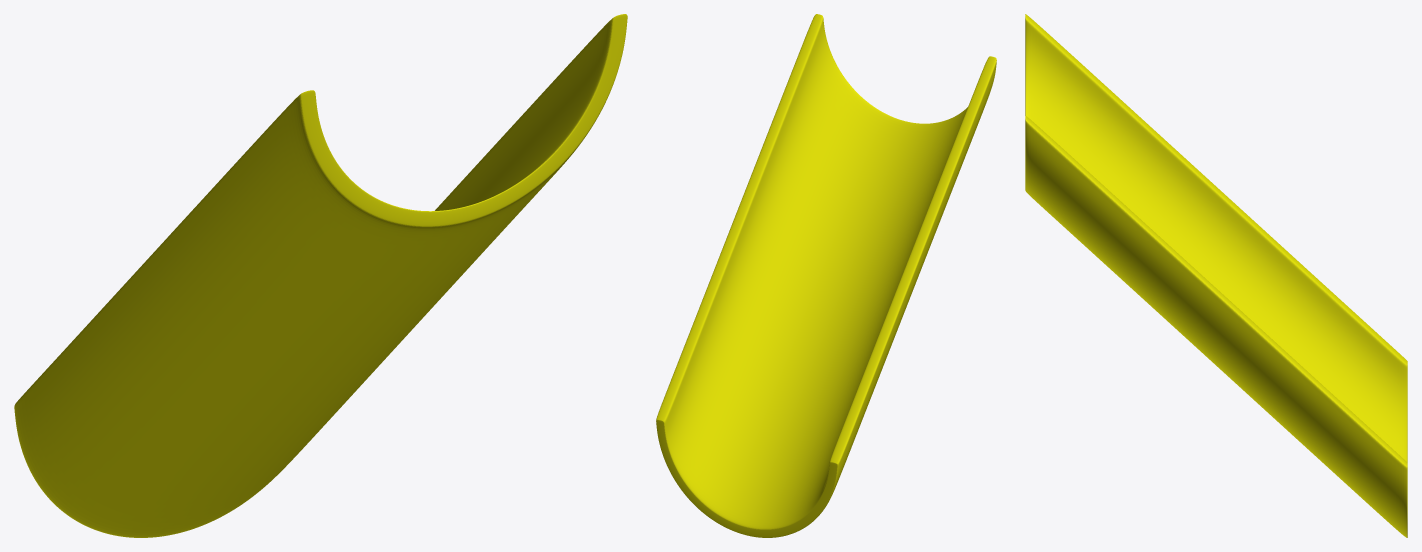
File: pipe incline 3.fbx
The picture shows the model from 3 angles, left to right: view 1: azimuth 30°, elevation 25°; view 2: azimuth 150°, elevation 25°; view 3: azimuth 270°, elevation 25°; orthographic projection. The views are drawn at different scales.
Parts seen in each view (by area): view 1: Cylinder; view 2: Cylinder; view 3: Cylinder.
Part boxes in pixels (x1,y1,x2,y2): Cylinder: (14,14,627,537); Cylinder: (656,14,996,537); Cylinder: (1025,14,1407,537).
Size of the model in its own units: 99.64 by 199 by 150.
